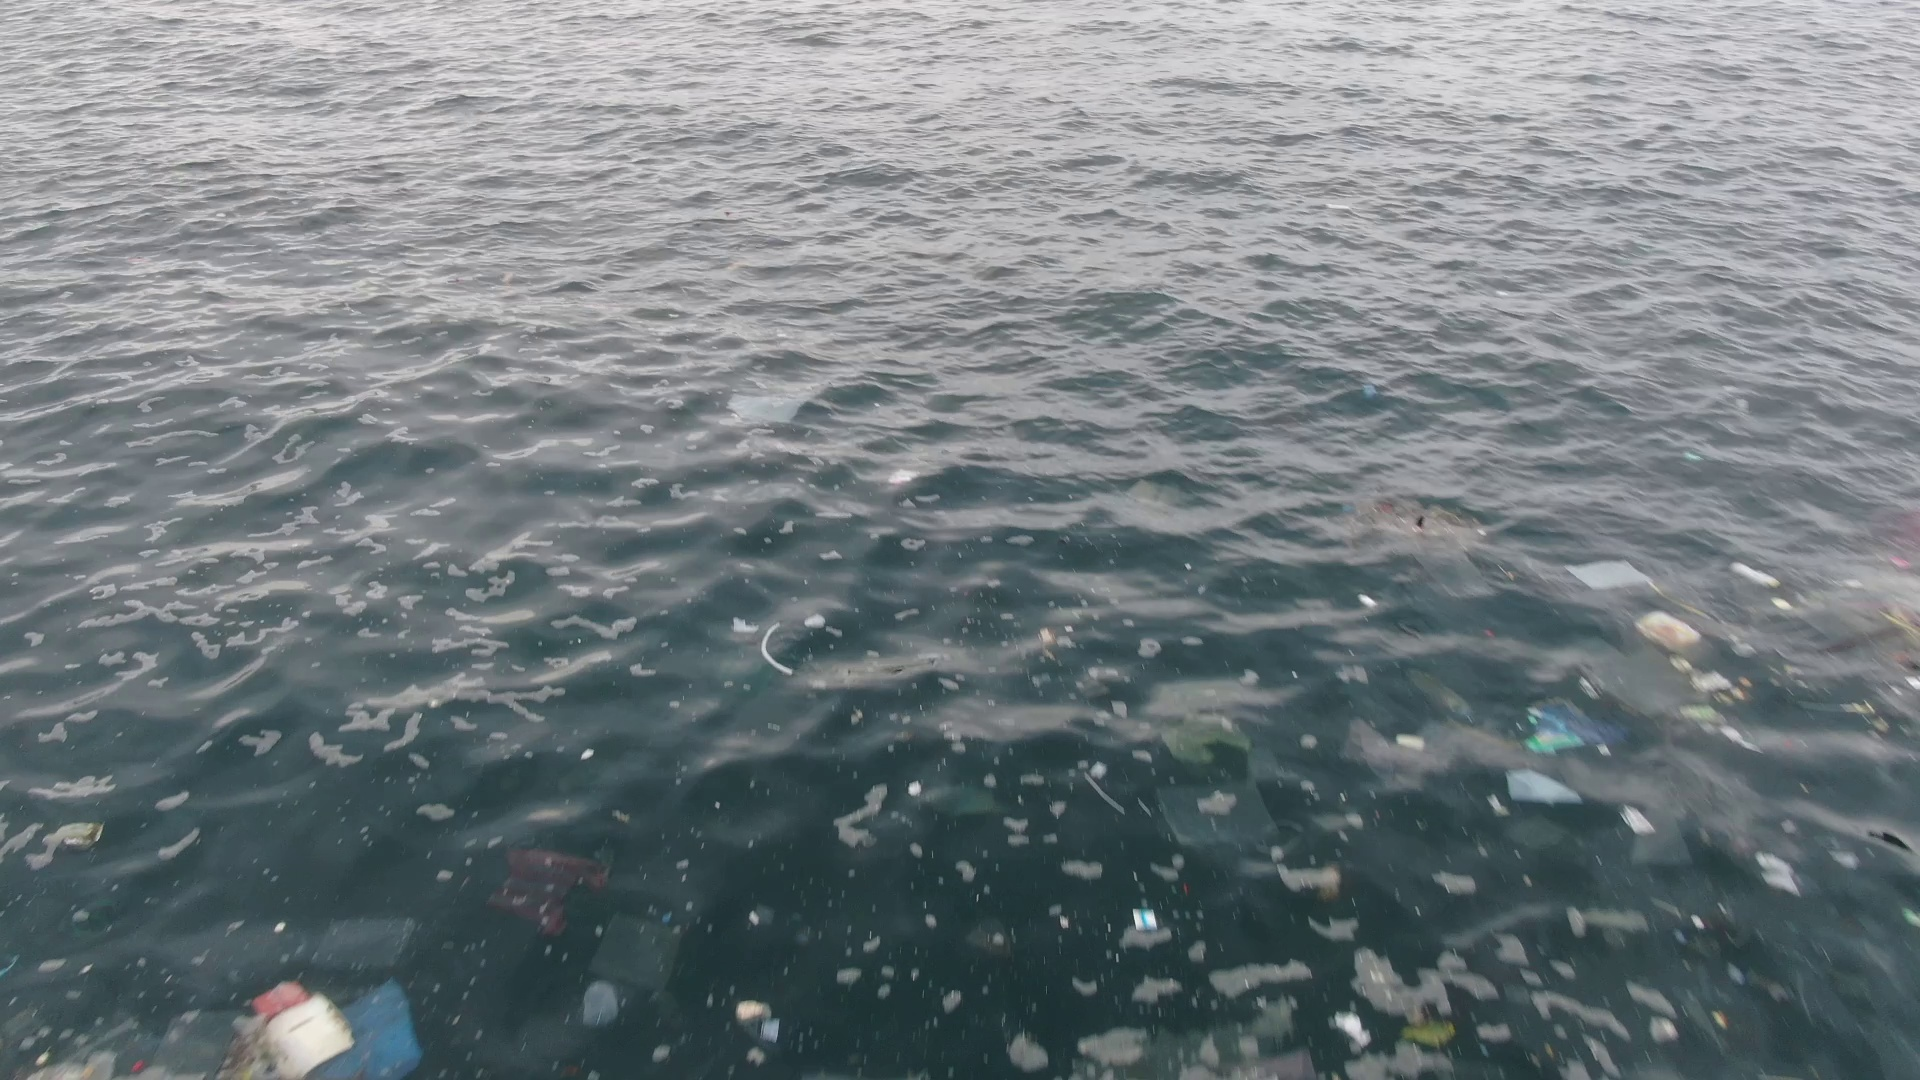garbage: (1345, 485, 1920, 891), (487, 852, 795, 1043), (7, 963, 414, 1080), (1158, 777, 1276, 851), (1156, 699, 1251, 766), (725, 385, 804, 427), (1402, 1011, 1461, 1054), (1133, 905, 1159, 928)
